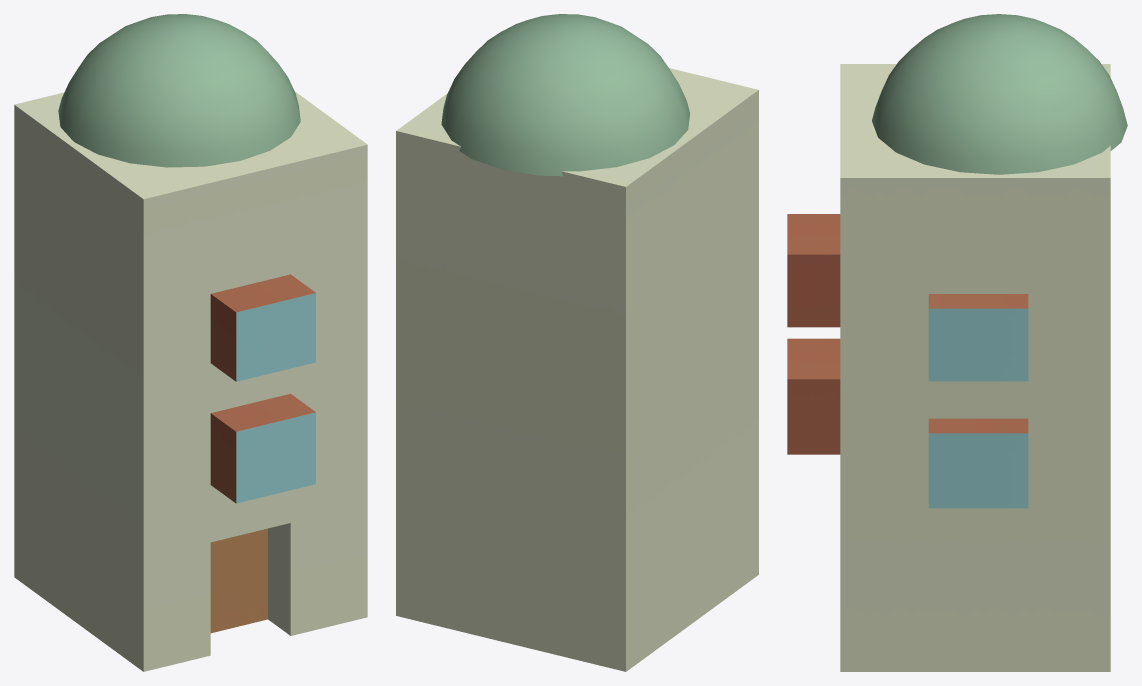
File: PR_Building_02.fbx
The picture shows the model from 3 angles, left to right: view 1: azimuth 30°, elevation 25°; view 2: azimuth 150°, elevation 25°; view 3: azimuth 270°, elevation 25°; orthographic projection. The views are drawn at different scales.
Visible parts, largest first — view 1: PR_Building_03; view 2: PR_Building_03; view 3: PR_Building_03.
Boxes of the visible parts, x1,y1,x2,y2 form: PR_Building_03: (14, 14, 367, 671); PR_Building_03: (396, 14, 758, 671); PR_Building_03: (787, 14, 1127, 671).
Size of the model in its own units: 466 by 991 by 520.
Materials: 1 (1 with a texture image).
